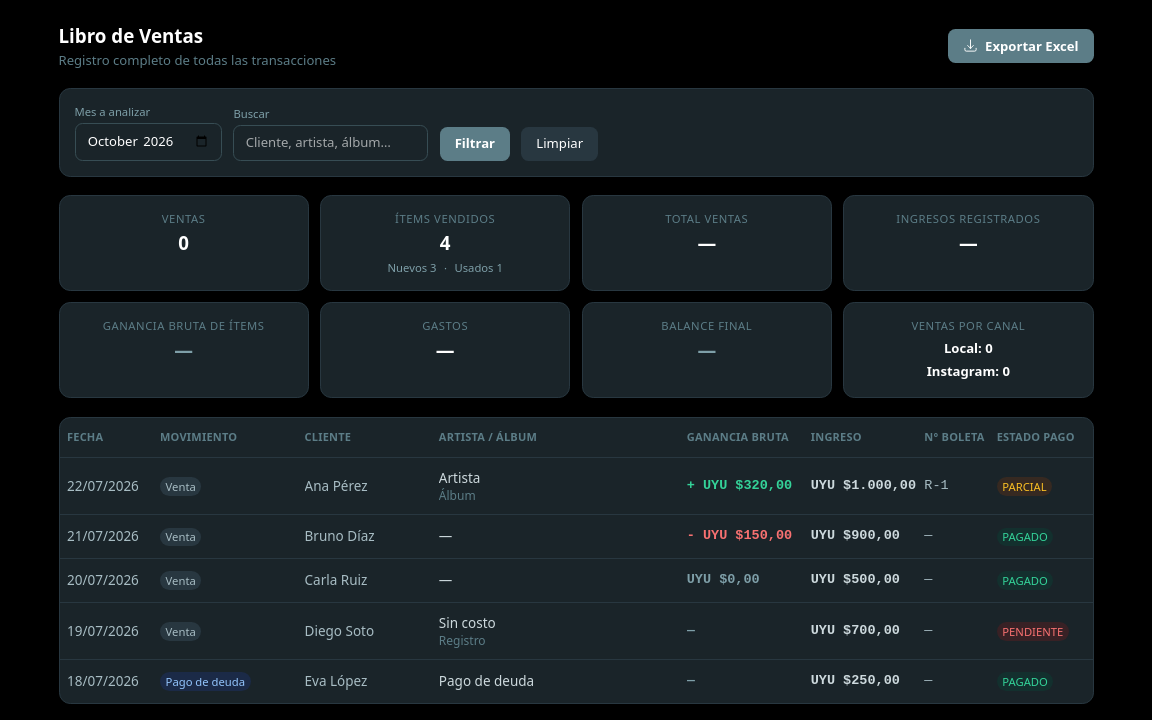
LibroVentas profit display › reloads the breakdown when the selected month is applied
Expected: the text "Nuevos 3" is shown, [388,260,436,275]
Replace the text in the 1st field with "2026-08" at [148, 142], box [74,123,222,161]
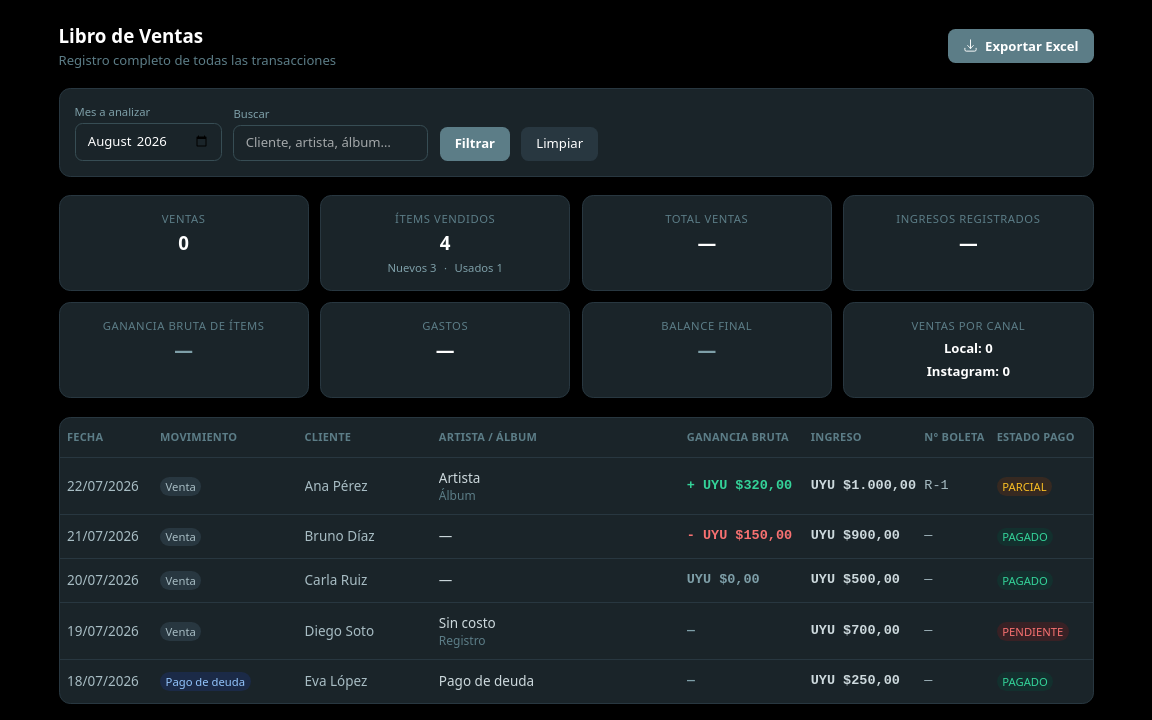
Click the button "Filtrar" at [475, 144], box [440,127,510,161]
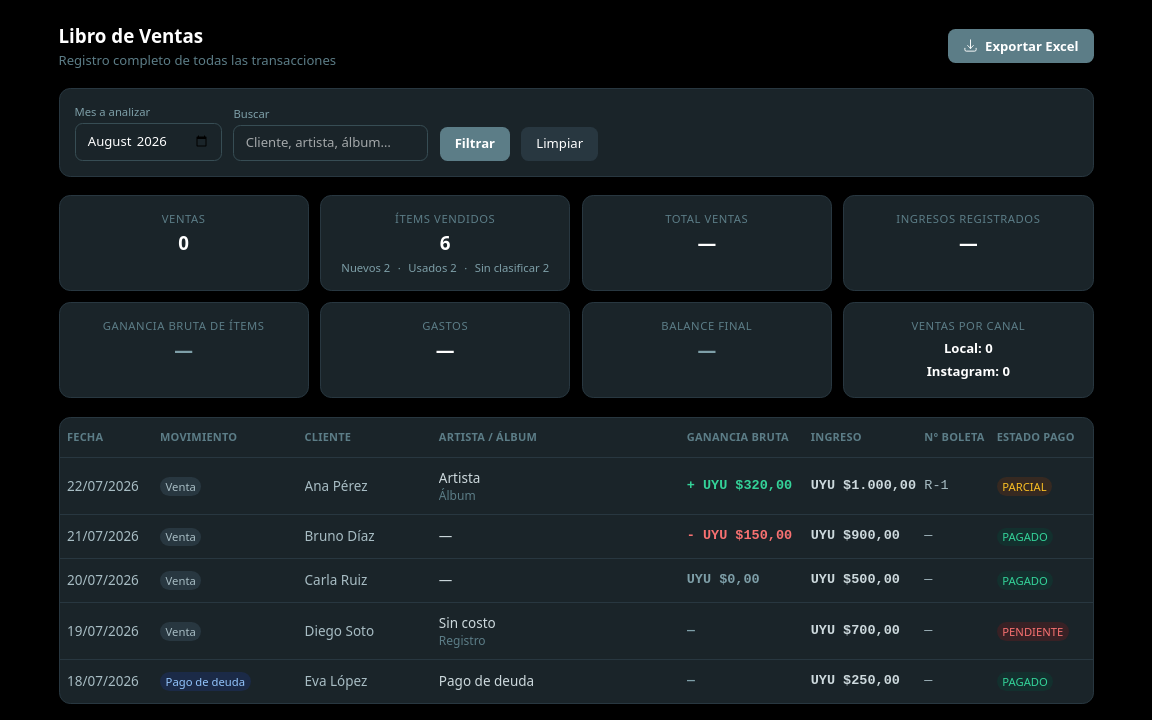
Result: the text "Nuevos 2" is shown at [341,260,390,275]
Result: the text "Sin clasificar 2" is shown at [475,260,549,275]
